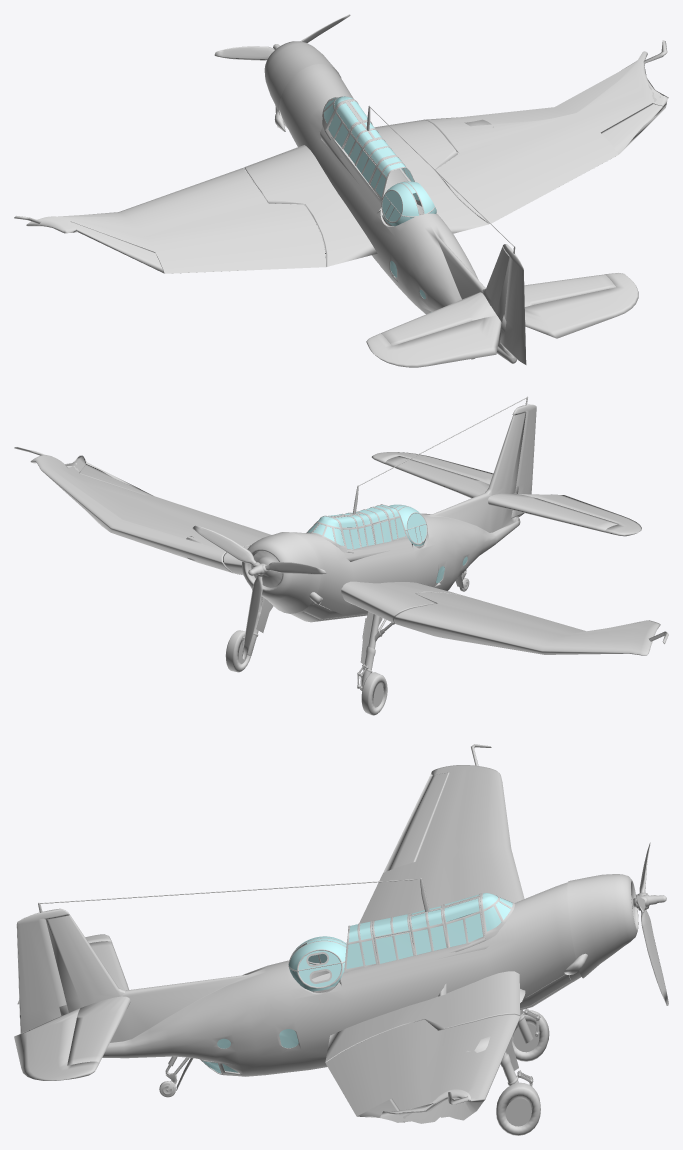
The model's file is Avenger_anim.fbx.
The picture shows the model from 3 angles, top to bottom: view 1: azimuth 30°, elevation 25°; view 2: azimuth 150°, elevation 25°; view 3: azimuth 270°, elevation 25°; orthographic projection. The views are drawn at different scales.
Parts seen in each view (by area): view 1: TBM-3 Avenger; view 2: TBM-3 Avenger; view 3: TBM-3 Avenger.
Boxes of the visible parts, left/top/right/bottom form: TBM-3 Avenger: left=14, top=14, right=668, bottom=367; TBM-3 Avenger: left=14, top=396, right=668, bottom=715; TBM-3 Avenger: left=14, top=744, right=668, bottom=1135.
Bounding box in the file's own units: 1656 × 461 × 1187.
